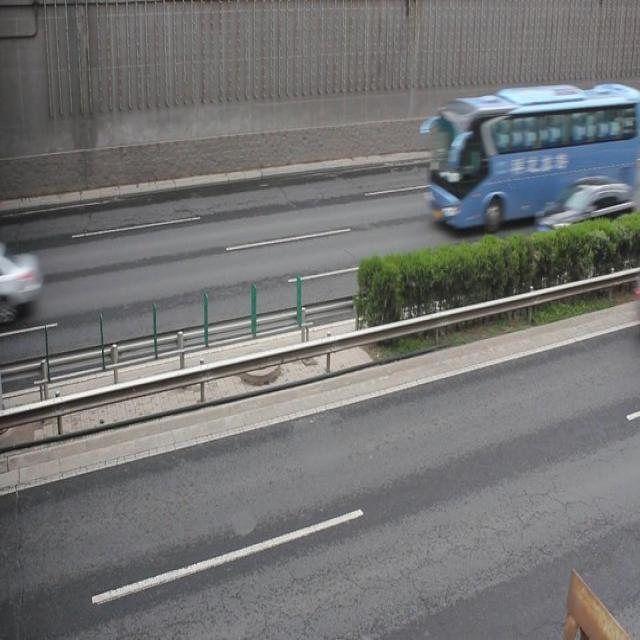car: (537, 175, 627, 253)
van: (426, 79, 640, 231)
